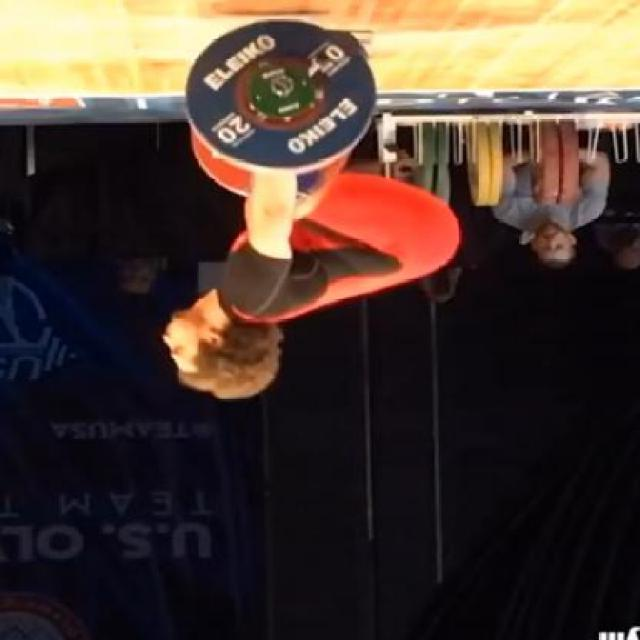Barbell: (248, 66, 322, 116)
